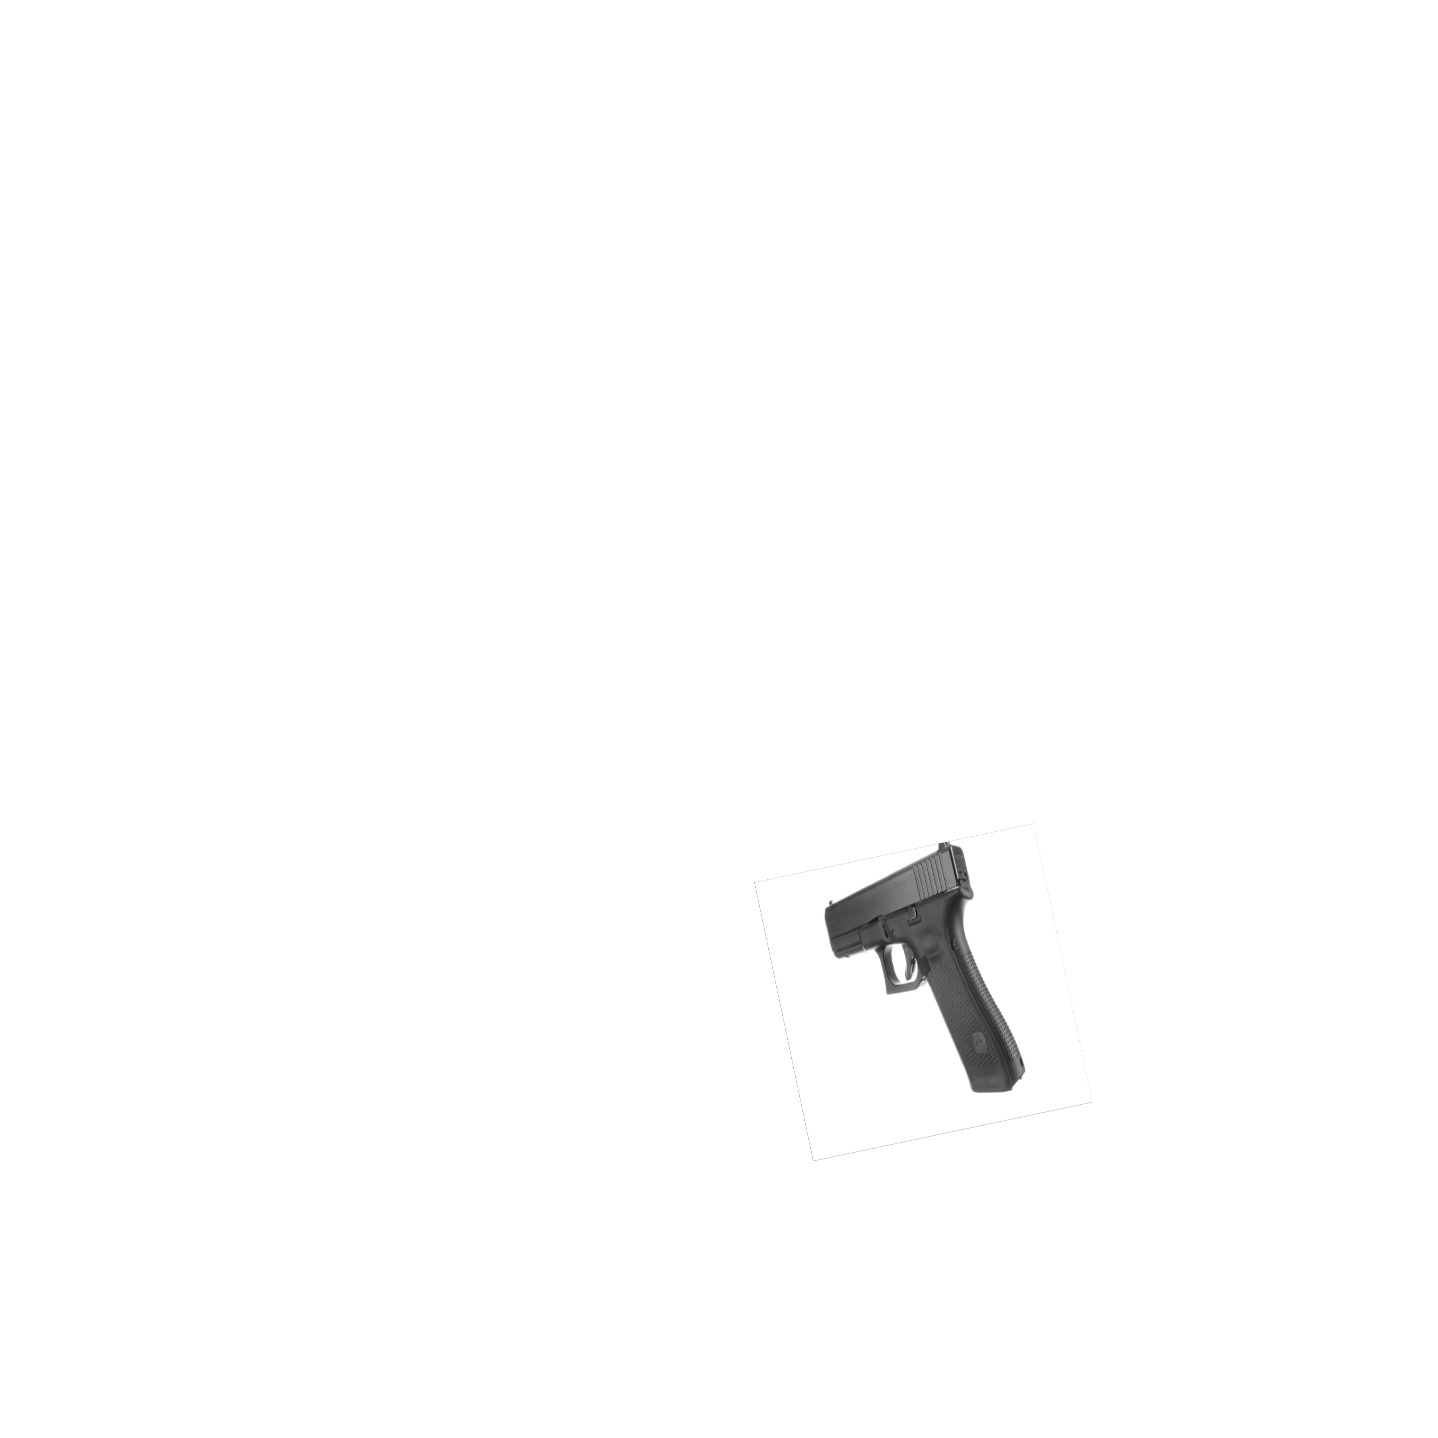gun: (812, 834, 1030, 1100)
